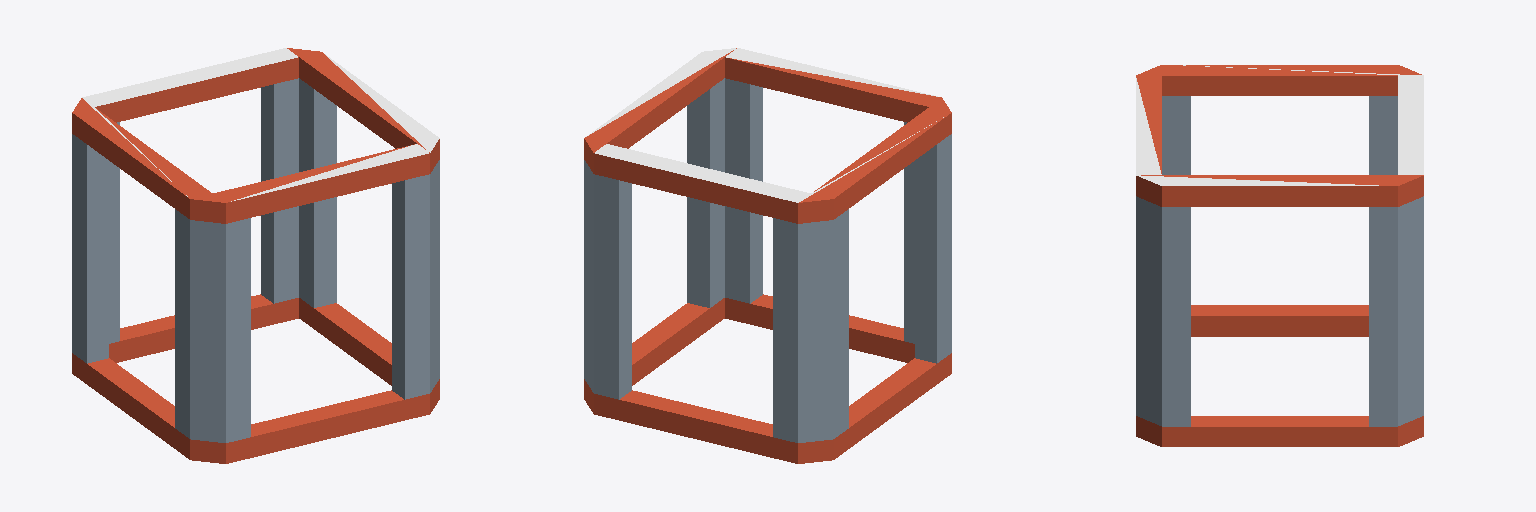
File: metalStructure.obj
The picture shows the model from 3 angles: view 1: azimuth 30°, elevation 25°; view 2: azimuth 150°, elevation 25°; view 3: azimuth 270°, elevation 25°; orthographic projection.
Visible parts, largest first — view 1: metalStructure; view 2: metalStructure; view 3: metalStructure.
Part boxes in pixels (bbox=[...]): metalStructure: bbox=[72, 48, 439, 463]; metalStructure: bbox=[584, 48, 951, 463]; metalStructure: bbox=[1136, 65, 1423, 446].
Bounding box in the file's own units: 10 × 10 × 10.